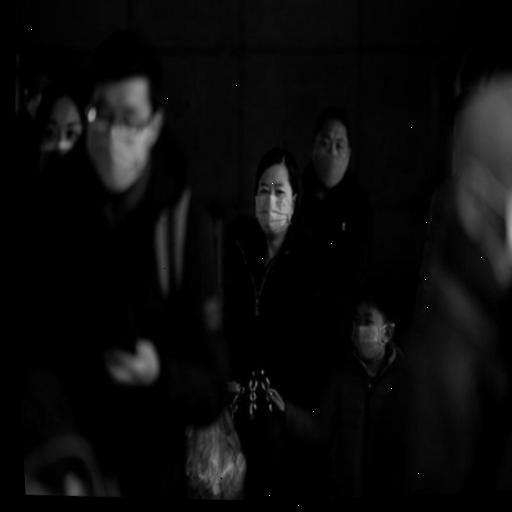mask: (75, 52, 174, 198), (240, 148, 310, 248), (301, 102, 363, 195), (338, 287, 405, 372)
